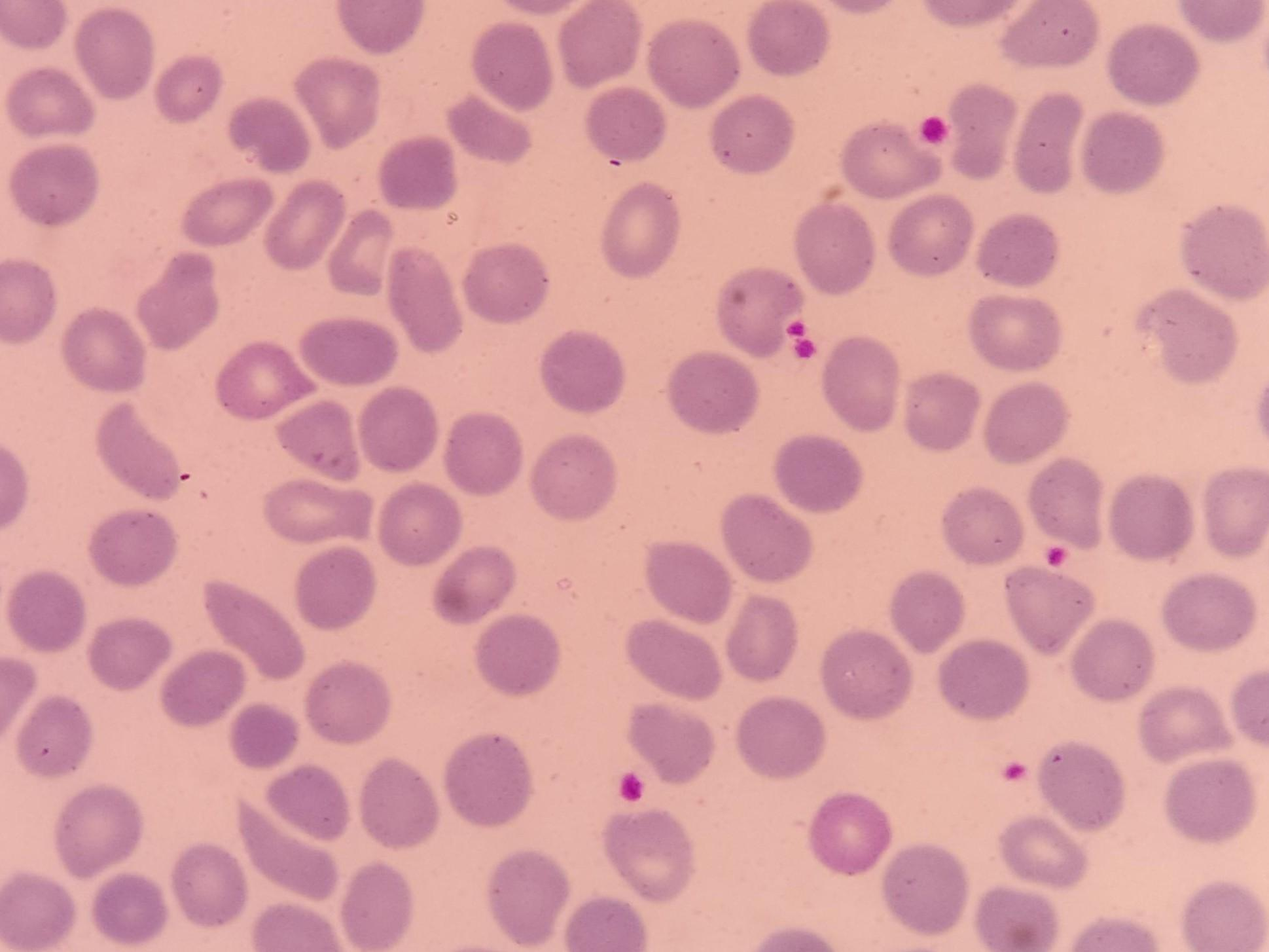Uninfected: (237, 794, 342, 903), (202, 580, 307, 684), (95, 401, 185, 499), (1143, 291, 1238, 383), (444, 733, 535, 827), (135, 253, 221, 351), (721, 493, 814, 583), (604, 807, 694, 898), (1180, 203, 1269, 295), (54, 786, 142, 879), (624, 618, 722, 701), (486, 851, 571, 946), (387, 246, 466, 348), (878, 845, 967, 935), (820, 631, 912, 718), (641, 540, 733, 627), (1002, 564, 1094, 651), (9, 143, 99, 230), (1037, 742, 1124, 831), (647, 21, 738, 105), (626, 701, 717, 785), (1162, 758, 1254, 841), (217, 341, 313, 420), (294, 58, 380, 146), (274, 396, 365, 479), (1160, 572, 1255, 651), (263, 763, 351, 848), (264, 179, 348, 268), (359, 758, 442, 848), (293, 545, 379, 631), (840, 122, 937, 198), (719, 266, 804, 352), (358, 386, 442, 473), (938, 638, 1027, 720), (63, 306, 147, 392), (539, 329, 626, 412), (377, 482, 464, 565), (265, 479, 371, 547), (820, 337, 899, 428), (984, 380, 1069, 464), (1109, 475, 1193, 560), (474, 613, 560, 696), (774, 434, 861, 516), (1014, 92, 1086, 191), (736, 697, 824, 778), (90, 509, 179, 589), (668, 353, 757, 433), (300, 316, 398, 388), (471, 22, 554, 107), (531, 435, 617, 517), (463, 244, 550, 325), (795, 202, 874, 291), (1026, 459, 1105, 548), (601, 184, 679, 274), (1139, 686, 1230, 763), (888, 195, 974, 276), (949, 86, 1022, 181), (1081, 110, 1164, 193), (560, 3, 643, 86), (442, 412, 524, 496), (305, 660, 389, 742), (969, 297, 1062, 371), (1108, 24, 1195, 103), (75, 10, 154, 96), (1069, 620, 1153, 700), (7, 569, 86, 654), (15, 695, 94, 780), (161, 650, 248, 727), (88, 617, 173, 695), (725, 596, 802, 682), (809, 795, 891, 875), (942, 487, 1025, 566), (434, 545, 518, 623), (889, 570, 967, 653), (975, 215, 1061, 290), (711, 94, 793, 172), (171, 845, 249, 927), (227, 97, 310, 174), (183, 177, 274, 247), (447, 92, 533, 166), (586, 86, 668, 163), (1003, 1, 1098, 67), (340, 865, 414, 948), (378, 134, 458, 210), (1000, 816, 1084, 888), (9, 66, 94, 137), (328, 208, 396, 295), (1202, 467, 1269, 555), (903, 373, 978, 450), (749, 3, 829, 75), (0, 873, 75, 949), (92, 871, 170, 944), (1181, 884, 1264, 951), (976, 887, 1058, 952), (229, 701, 300, 770), (155, 54, 224, 122), (0, 260, 56, 341), (565, 898, 645, 952), (339, 3, 421, 53)
